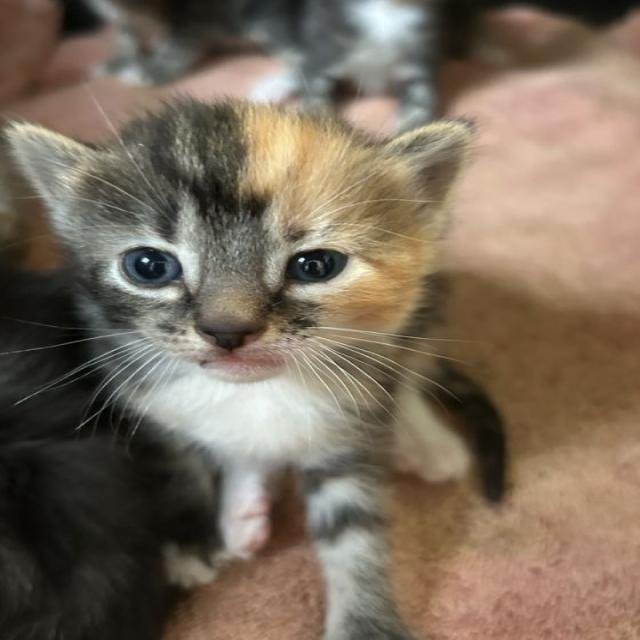maine_coon_cat: (2, 100, 506, 431)
